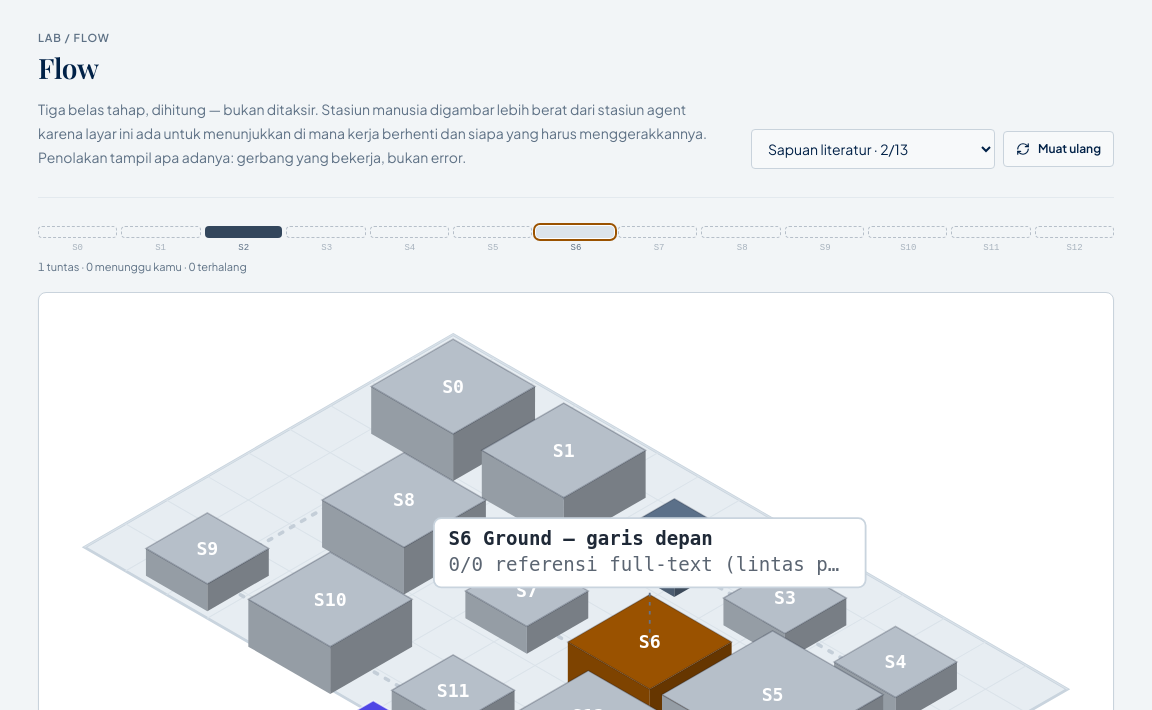
it: §8 a workflow draws only its stages as live — omitted stations grey IN POSITION › a route omitting S5 greys it with the gate-derived consequence, and the track still shows thirteen
The width and height of the screenshot is (1152, 710).
Expected: the element named "13 tahap berurutan" is shown, [38,226,1114,276]
Click the button named "S5 Verifikasi: dilewati" at [493, 232], box [453,226,532,238]
(page scrolled)
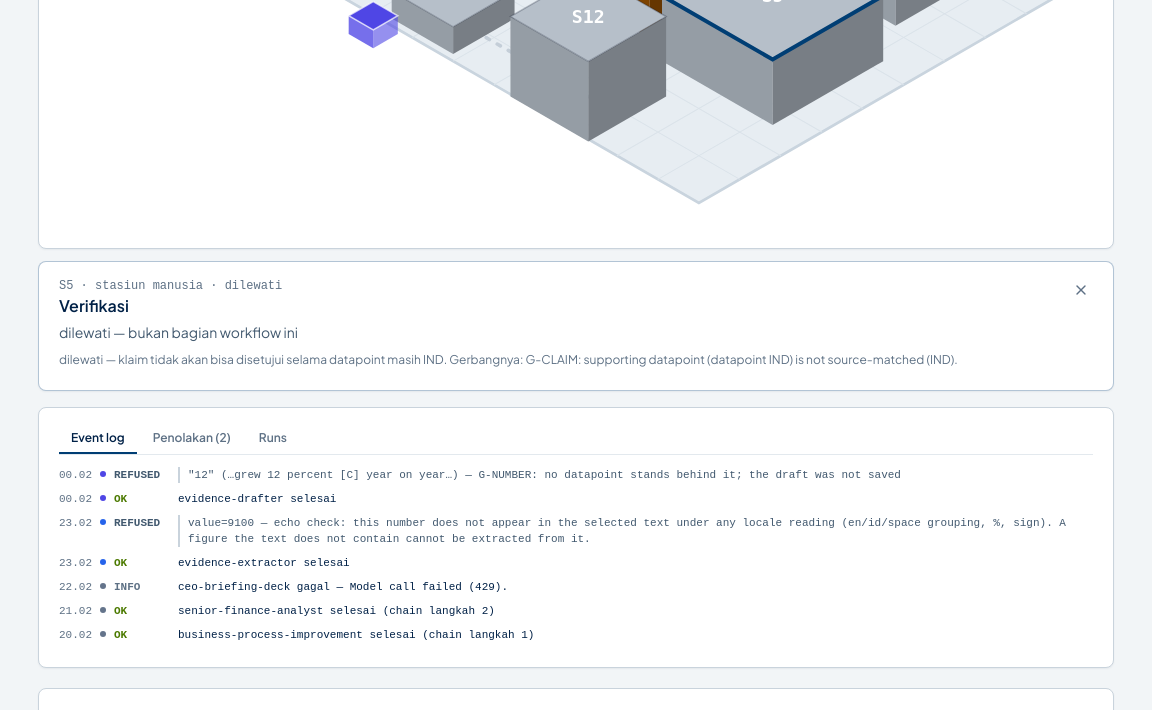
Result: the text "S5 · stasiun manusia · dilewati" is shown at [59,278,298,294]
Result: the list item "G-CLAIM" is shown at [59,352,958,367]
